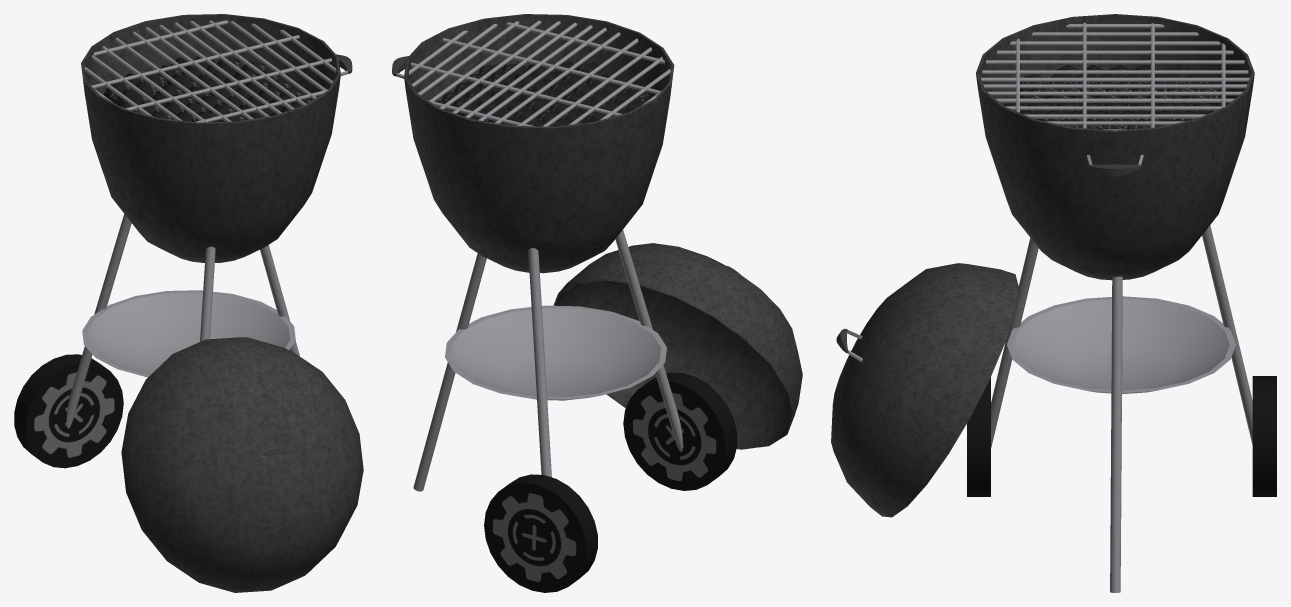
File: grill.glb
The picture shows the model from 3 angles, left to right: view 1: azimuth 30°, elevation 25°; view 2: azimuth 150°, elevation 25°; view 3: azimuth 270°, elevation 25°; orthographic projection. The views are drawn at different scales.
Visible parts, largest first — view 1: polySurface16, polySurface40, polySurface13, polySurface34, polySurface19, polySurface21, polySurface20, polySurface18; view 2: polySurface40, polySurface16, polySurface13, polySurface19, polySurface34, polySurface15, polySurface21, polySurface18, polySurface20; view 3: polySurface40, polySurface16, polySurface13, polySurface34, polySurface18, polySurface19, polySurface15, polySurface21, polySurface20.
Part boxes in pixels (box(x1,y1,x2,y2)): polySurface16: box(121, 337, 363, 592); polySurface40: box(81, 14, 340, 262); polySurface13: box(82, 290, 295, 377); polySurface34: box(84, 20, 336, 122); polySurface19: box(14, 354, 123, 468); polySurface21: box(66, 214, 131, 428); polySurface20: box(200, 246, 215, 341); polySurface18: box(260, 245, 299, 356); polySurface40: box(404, 14, 674, 273); polySurface16: box(553, 243, 802, 449); polySurface13: box(445, 305, 666, 400); polySurface19: box(484, 474, 597, 592); polySurface34: box(409, 20, 670, 126); polySurface15: box(623, 372, 737, 490); polySurface21: box(528, 248, 551, 477); polySurface18: box(413, 253, 486, 491); polySurface20: box(615, 230, 682, 451); polySurface40: box(976, 14, 1254, 280); polySurface16: box(831, 263, 1018, 517); polySurface13: box(1007, 296, 1235, 393); polySurface34: box(981, 22, 1249, 130); polySurface18: box(1110, 276, 1122, 592); polySurface19: box(1252, 376, 1276, 496); polySurface15: box(967, 377, 990, 496); polySurface21: box(1202, 225, 1252, 444); polySurface20: box(991, 238, 1038, 447).
Bounding box in the file's own units: 1.46 × 2 × 1.76.
1 material, 1 textured.
